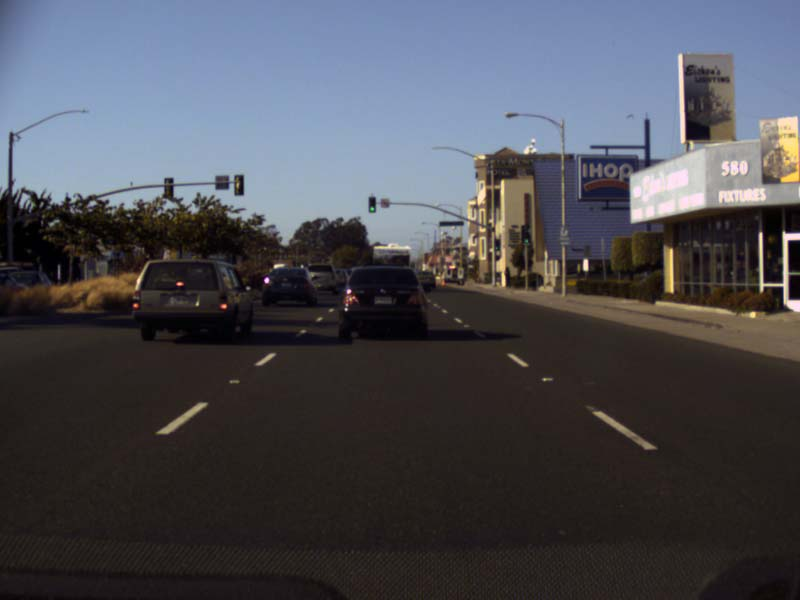Green: (521, 226, 530, 244), (368, 196, 375, 212), (494, 239, 500, 251)
